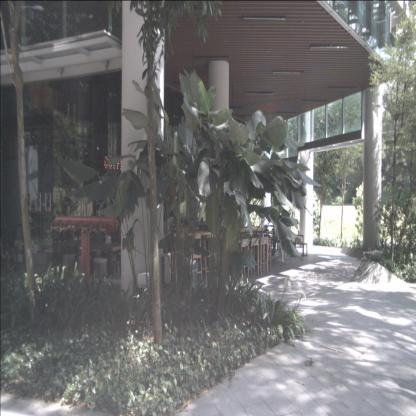vehicle-bicycle: (0, 219, 18, 272)
